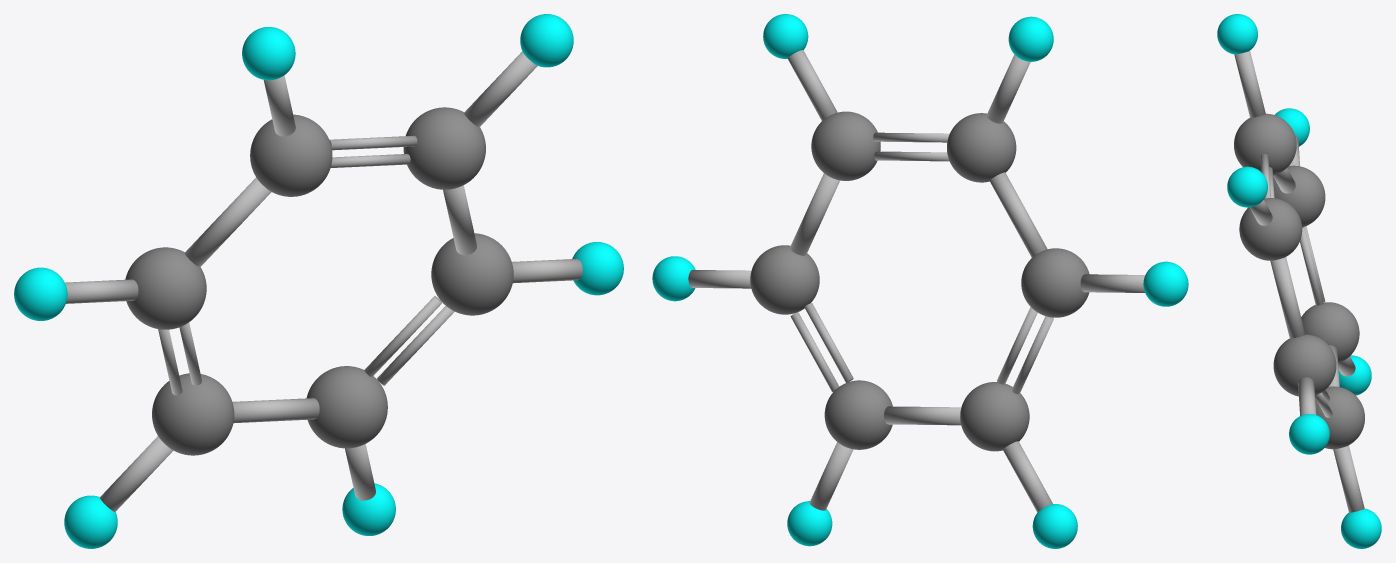
Rendered from benzene.glb.
The picture shows the model from 3 angles, left to right: view 1: azimuth 30°, elevation 25°; view 2: azimuth 150°, elevation 25°; view 3: azimuth 270°, elevation 25°; orthographic projection. The views are drawn at different scales.
Parts seen in each view (by area): view 1: CMAtom_0; view 2: CMAtom_0; view 3: CMAtom_0.
Part boxes in pixels (x1,y1,x2,y2): CMAtom_0: (14, 14, 623, 548); CMAtom_0: (652, 14, 1188, 548); CMAtom_0: (1217, 14, 1381, 548).
Size of the model in its own units: 0.5314 by 0.5013 by 0.1613.
